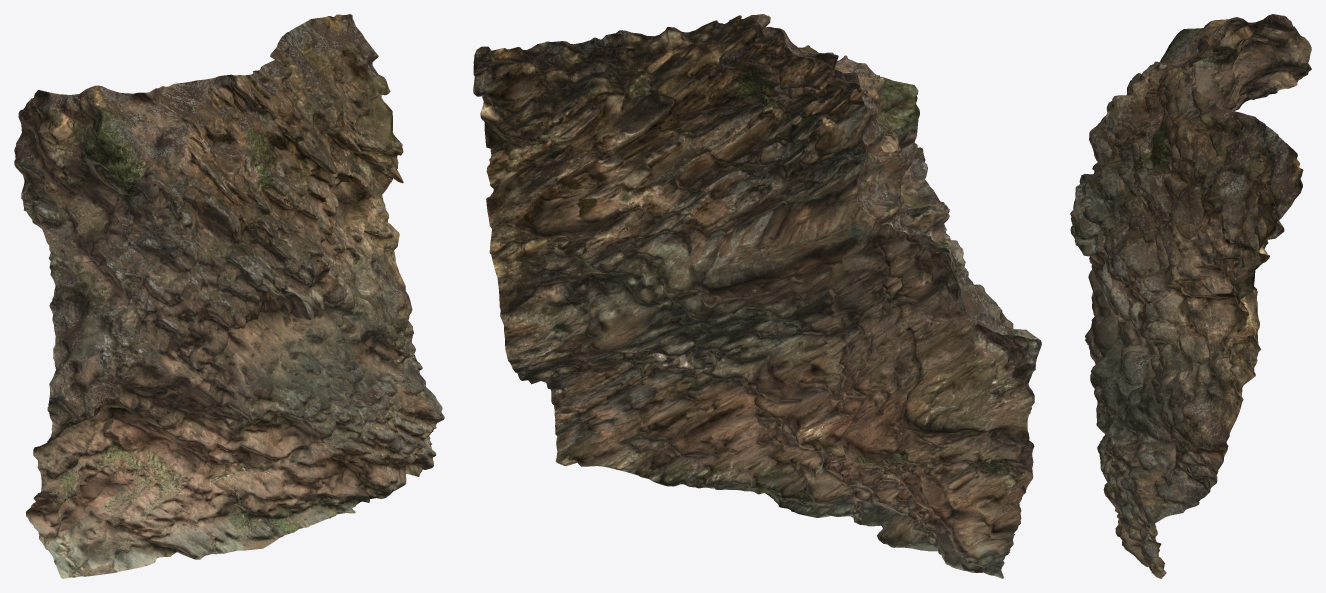
File: mountainside.glb
3 views of the same model, side by side, from view 1: azimuth 30°, elevation 25°; view 2: azimuth 150°, elevation 25°; view 3: azimuth 270°, elevation 25° (orthographic). The views are drawn at different scales.
Visible parts, largest first — view 1: mountainside; view 2: mountainside; view 3: mountainside.
Boxes of the visible parts, box(x1,y1,x2,y2) form: mountainside: box(14, 14, 444, 578); mountainside: box(473, 14, 1041, 578); mountainside: box(1070, 14, 1311, 578).
Bounding box in the file's own units: 10.21 × 10.52 × 5.25.
1 material, 1 textured.
